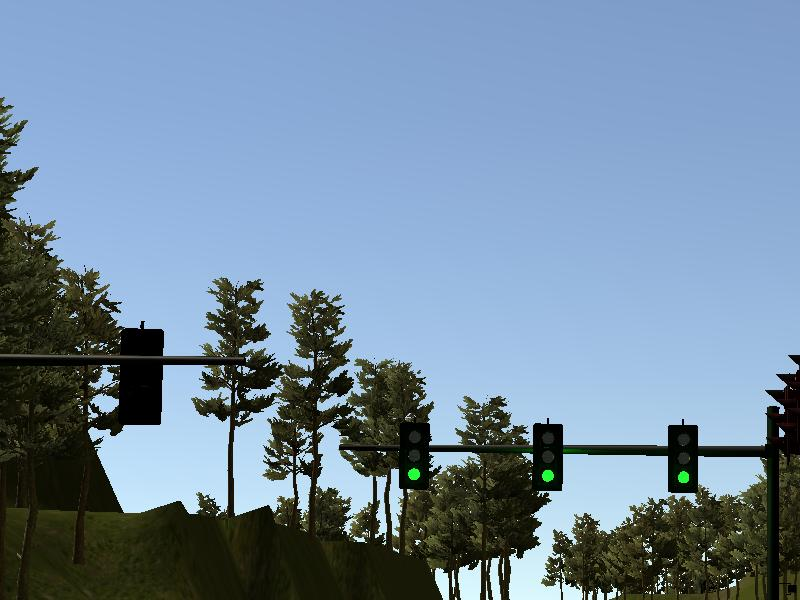green: (397, 421, 433, 491), (530, 421, 566, 491), (665, 423, 701, 493)
